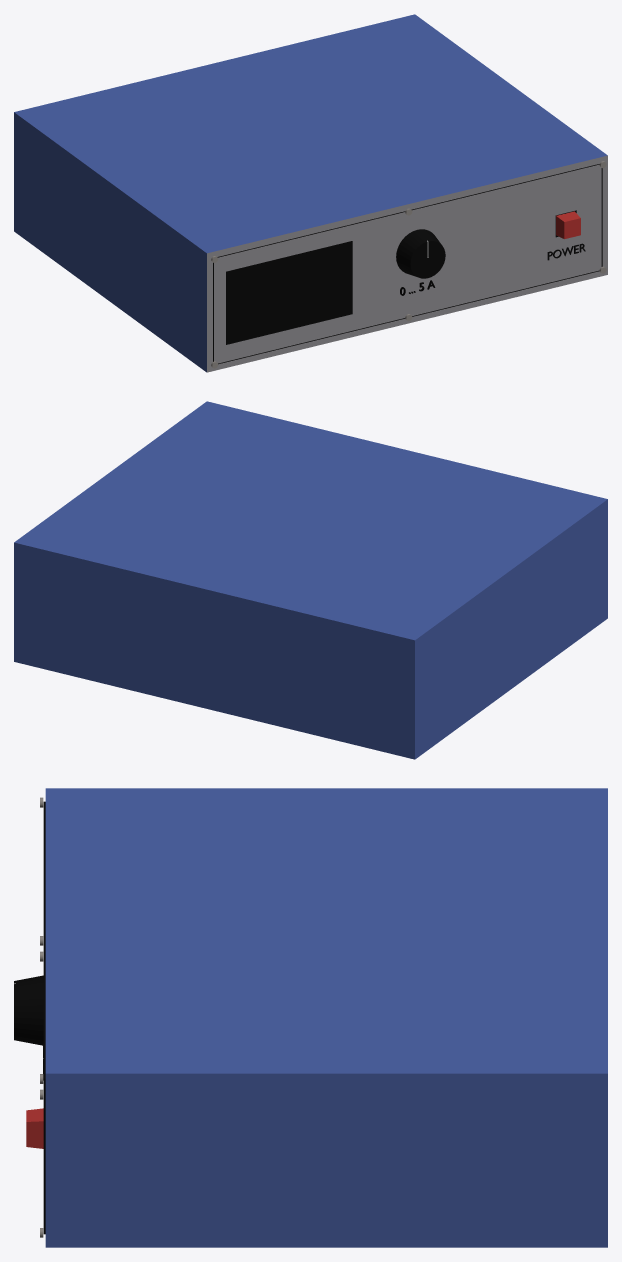
The model's file is currentSource.glb.
The picture shows the model from 3 angles, top to bottom: view 1: azimuth 30°, elevation 25°; view 2: azimuth 150°, elevation 25°; view 3: azimuth 270°, elevation 25°; orthographic projection. The views are drawn at different scales.
Visible parts, largest first — view 1: stand, contrast, power.001; view 2: stand; view 3: stand, contrast, power.001.
Boxes of the visible parts, left/top/right/bottom form: stand: left=14, top=14, right=607, bottom=372; contrast: left=396, top=229, right=445, bottom=278; power.001: left=556, top=211, right=580, bottom=239; stand: left=14, top=401, right=607, bottom=759; stand: left=40, top=788, right=607, bottom=1247; contrast: left=14, top=975, right=43, bottom=1045; power.001: left=26, top=1108, right=43, bottom=1148.
Bounding box in the file's own units: 240 × 68.22 × 211.
